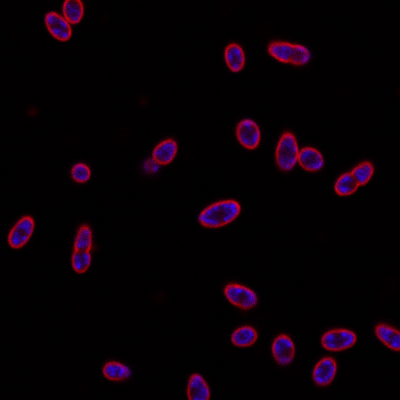Mecillinam: (332, 160, 375, 197), (196, 197, 241, 229), (70, 222, 95, 274), (222, 281, 259, 310), (319, 327, 359, 353), (7, 215, 36, 250), (308, 355, 339, 386), (44, 12, 72, 43), (227, 323, 260, 348), (296, 144, 328, 169), (236, 118, 260, 150), (224, 43, 245, 72), (68, 161, 91, 186)
Oblique: (138, 138, 178, 177), (266, 41, 311, 66), (274, 130, 299, 173), (269, 331, 296, 367), (101, 359, 134, 379)
